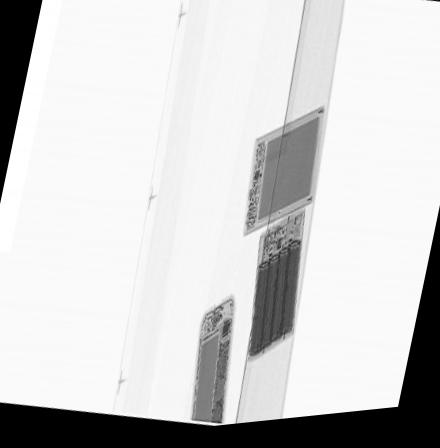Powerbank: (240, 112, 324, 245), (245, 215, 305, 371)
